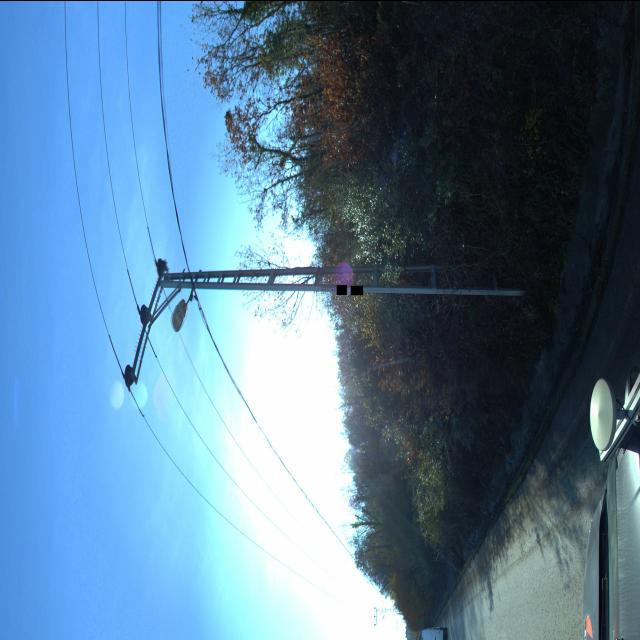Utility Pole Information Plate: (351, 285, 363, 294), (337, 284, 347, 294)
